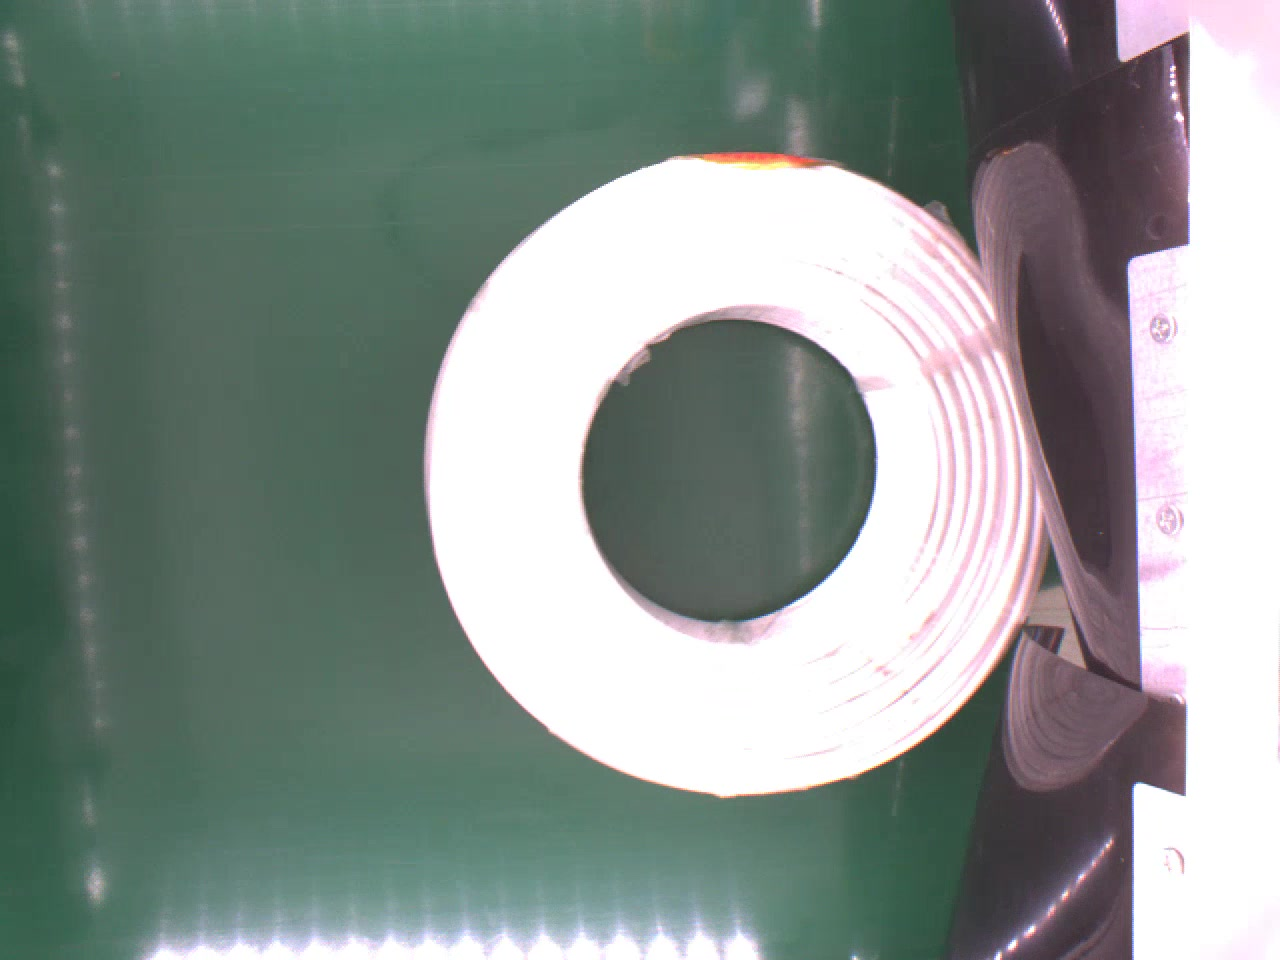white: (421, 145, 1059, 794)
